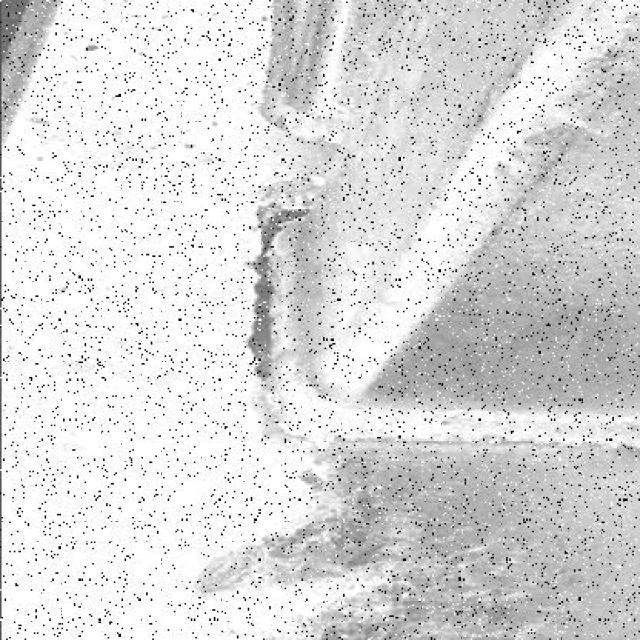Crack: (238, 196, 314, 389)
